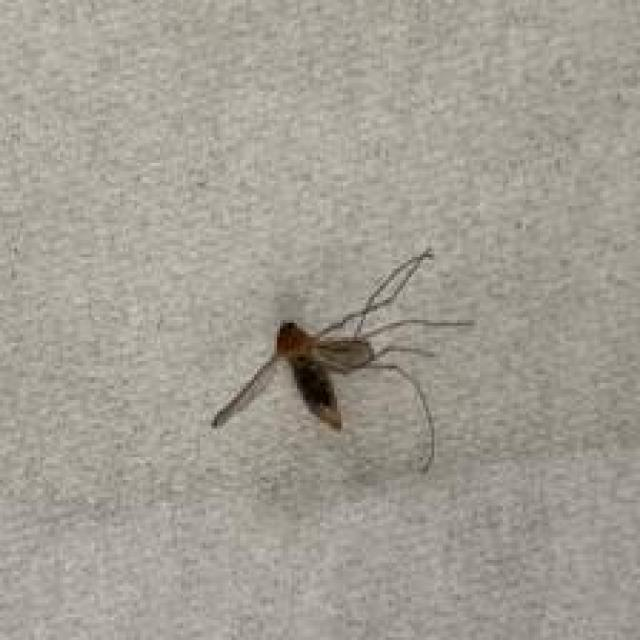Culex: (210, 246, 476, 474)
